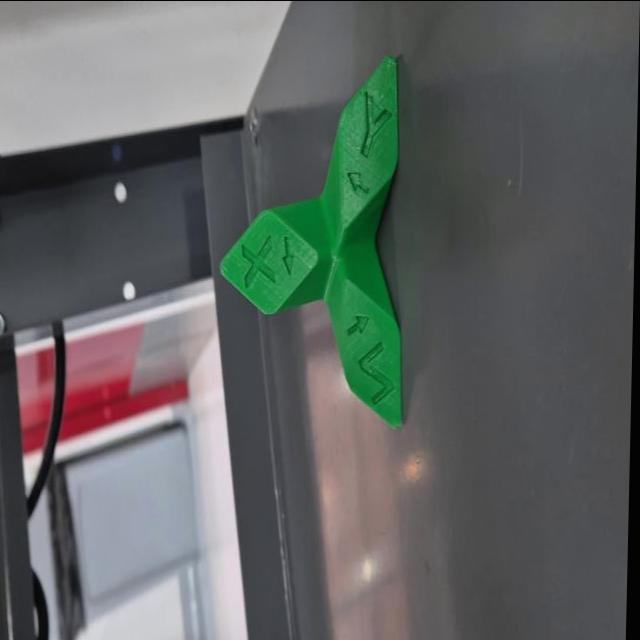eje: (210, 50, 418, 432)
